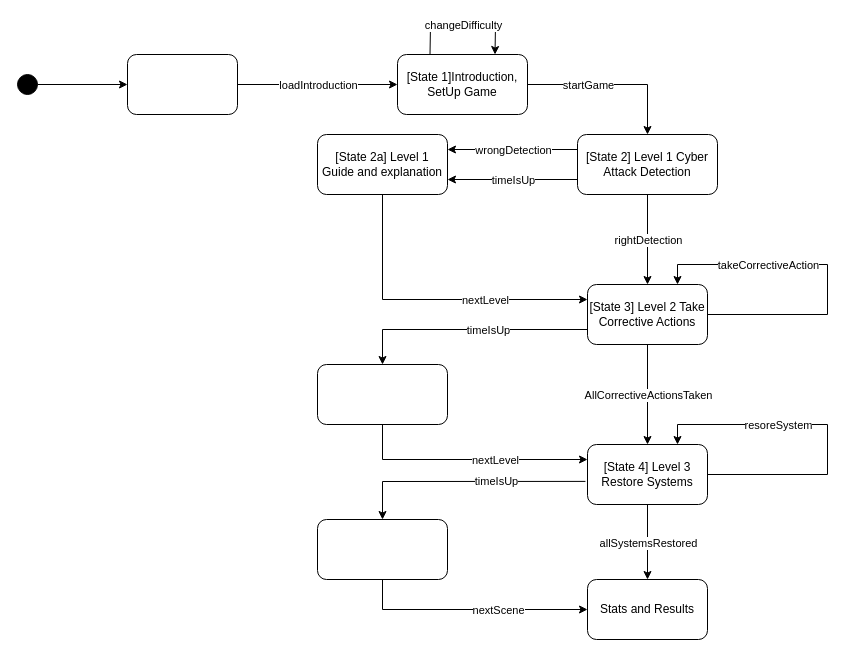
Image size: 853x657. Some labels were removed from this diagram. The shapes that lost their labels are listed below. From the top down, each one's centre as x and y in pixels, then its label:
At point (182, 84): "[State 0] Waiting Room/ Tutorial".
At point (382, 394): "[State 3a] Level 2 Guide and explanation".
At point (382, 549): "[State 4a] Level 3 Guide and explanation".
